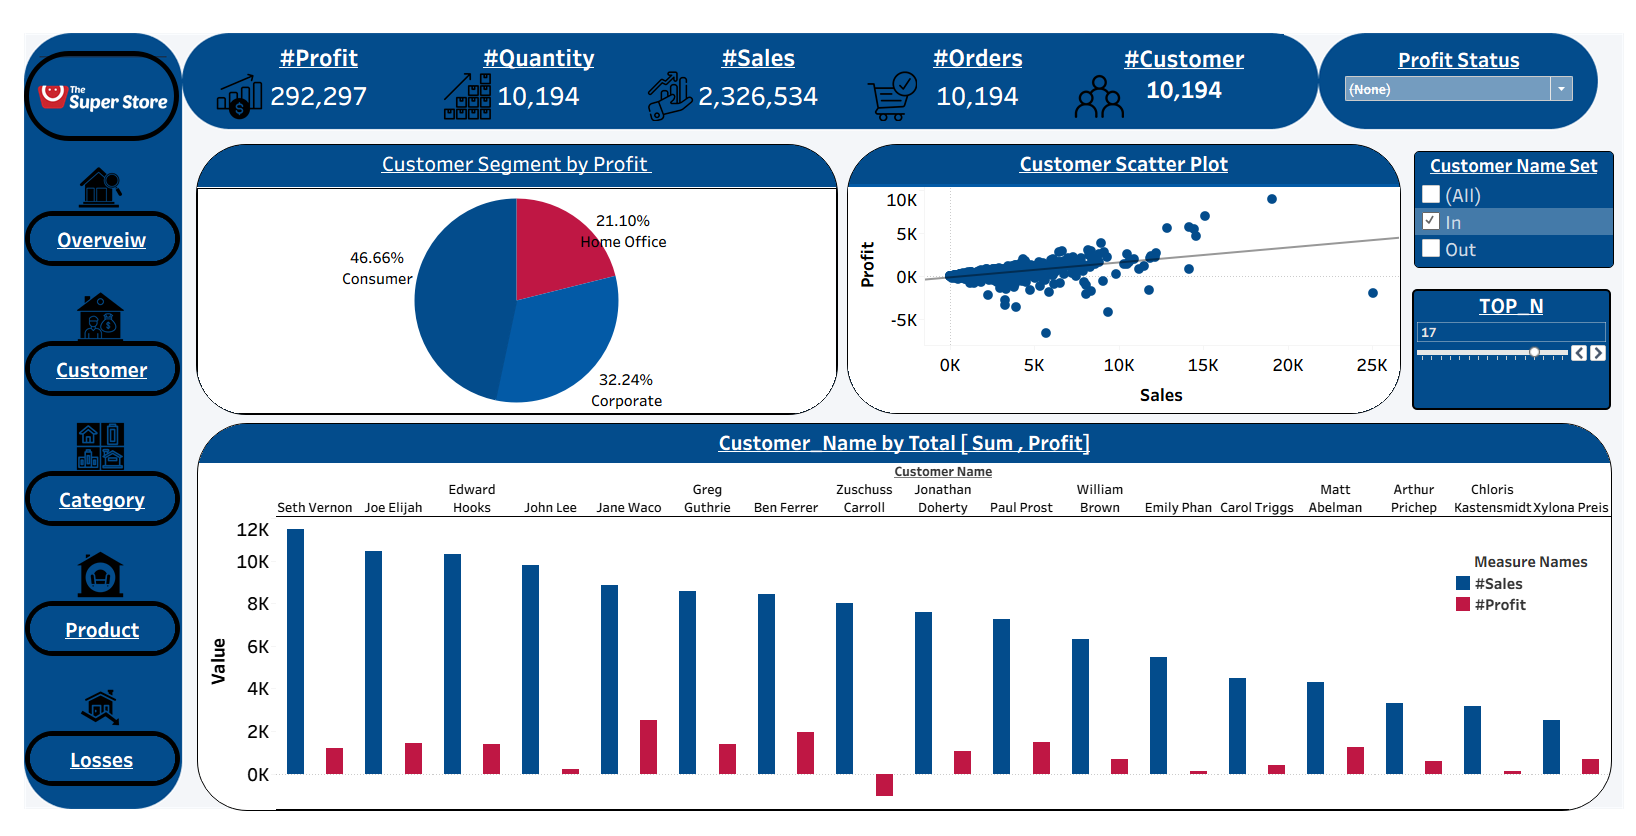

The page's visual inventory and layout, read from the dashboard file:
{"tool":"tableau","page":{"name":"Customer_Dashboard","canvas":[1650,800],"ordinal":1},"visuals":[{"type":"image","param":"E:/BI and Data Analysis Course/Tableau/Day_2/Logo/Untitled.png","box":[8,8,1634,784]},{"type":"worksheet","title":"Total_Cutomer_KPI","mark":"Automatic","box":[1086,13,199,81]},{"type":"worksheet","title":"KPI Cards ","mark":"Automatic","box":[209,19,881,79]},{"type":"filter","title":"Customer Scatter Plot","param":"[federated.1gjnplu0a9ecpf163y1ue074a4vp].[usr:Calculation_0566570577006593:nk]","box":[1343,24,234,69]},{"type":"image","param":"E:/BI and Data Analysis Course/Tableau/Day_2/Logo/Copilot_20260921_050017-remove","box":[25,30,155,90]},{"type":"image","param":"C:/Users/ITLGEN~1/AppData/Local/Temp/TableauTemp/0eeszoc1kzk8s31fx1ncz137cxpl/Sh","box":[215,50,67,50]},{"type":"image","param":"C:/Users/ITLGEN~1/AppData/Local/Temp/TableauTemp/0eeszoc1kzk8s31fx1ncz137cxpl/Sh","box":[443,50,67,50]},{"type":"image","param":"C:/Users/ITLGEN~1/AppData/Local/Temp/TableauTemp/0eeszoc1kzk8s31fx1ncz137cxpl/Sh","box":[646,50,67,50]},{"type":"image","param":"C:/Users/ITLGEN~1/AppData/Local/Temp/TableauTemp/0eeszoc1kzk8s31fx1ncz137cxpl/Sh","box":[868,50,67,50]},{"type":"image","param":"E:/BI and Data Analysis Course/Tableau/Day_2/Logo/customer.png","box":[1075,50,67,50]},{"type":"worksheet","title":"Customer Segment by Profit ","mark":"Pie","box":[197,123,642,271]},{"type":"worksheet","title":"Customer Scatter Plot","mark":"Automatic","rows":["Profit"],"cols":["Sales"],"box":[848,123,554,270]},{"type":"filter","title":"Customer_Name by Total [ Sum , Profit]","param":"[federated.1gjnplu0a9ecpf163y1ue074a4vp].[io:Customer Name Set:nk]","box":[1415,130,200,117]},{"type":"image","param":"C:/Users/ITLGEN~1/AppData/Local/Temp/TableauTemp/0eeszoc1kzk8s31fx1ncz137cxpl/Sh","box":[50,141,102,50]},{"type":"dashboard-object","box":[26,190,155,55]},{"type":"parameter","param":"[Parameters].[Parameter 2]","box":[1413,268,199,121]},{"type":"image","param":"E:/BI and Data Analysis Course/Tableau/Day_2/Logo/Customer DB.png","box":[50,271,102,50]},{"type":"dashboard-object","box":[26,320,155,55]},{"type":"image","param":"E:/BI and Data Analysis Course/Tableau/Day_2/Logo/Category DB.png","box":[50,400,102,50]},{"type":"worksheet","title":"Customer_Name by Total [ Sum , Profit]","mark":"Automatic","cols":["Customer Name"],"box":[198,402,1415,388]},{"type":"dashboard-object","box":[26,450,155,55]},{"type":"image","param":"E:/BI and Data Analysis Course/Tableau/Day_2/Logo/Product DB.png","box":[50,528,102,50]},{"type":"legend","title":"Customer_Name by Total [ Sum , Profit]","param":"[federated.1gjnplu0a9ecpf163y1ue074a4vp].[:Measure Names]","box":[1454,530,156,84]},{"type":"dashboard-object","box":[26,580,155,55]},{"type":"image","param":"E:/BI and Data Analysis Course/Tableau/Day_2/Logo/Losses DB.png","box":[50,660,102,50]},{"type":"dashboard-object","box":[26,710,155,55]}]}

Visuals, with their boxes on the page's 1650x800 design canvas (x1, y1, x2, y2). These are canvas units, not pixel positions in the 1636x836 screenshot, which may show the page scaled, cropped or inside an application window:
image: 8, 8, 1642, 792
"Total_Cutomer_KPI" worksheet: 1086, 13, 1285, 94
"KPI Cards " worksheet: 209, 19, 1090, 98
"Customer Scatter Plot" filter: 1343, 24, 1577, 93
image: 25, 30, 180, 120
image: 215, 50, 282, 100
image: 443, 50, 510, 100
image: 646, 50, 713, 100
image: 868, 50, 935, 100
image: 1075, 50, 1142, 100
"Customer Segment by Profit " worksheet (Pie marks): 197, 123, 839, 394
"Customer Scatter Plot" worksheet: 848, 123, 1402, 393
"Customer_Name by Total [ Sum , Profit]" filter: 1415, 130, 1615, 247
image: 50, 141, 152, 191
dashboard-object: 26, 190, 181, 245
parameter: 1413, 268, 1612, 389
image: 50, 271, 152, 321
dashboard-object: 26, 320, 181, 375
image: 50, 400, 152, 450
"Customer_Name by Total [ Sum , Profit]" worksheet: 198, 402, 1613, 790
dashboard-object: 26, 450, 181, 505
image: 50, 528, 152, 578
"Customer_Name by Total [ Sum , Profit]" legend: 1454, 530, 1610, 614
dashboard-object: 26, 580, 181, 635
image: 50, 660, 152, 710
dashboard-object: 26, 710, 181, 765
